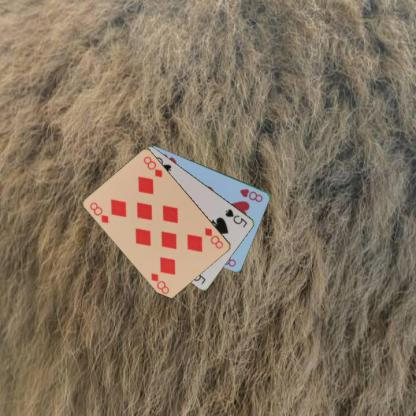5s: (223, 206, 249, 229)
8d: (202, 225, 225, 250), (87, 200, 110, 225)
8h: (238, 186, 264, 203)
